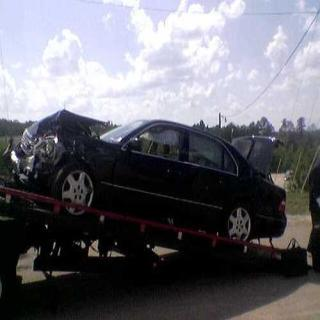Towing_truck: (1, 179, 308, 305)
